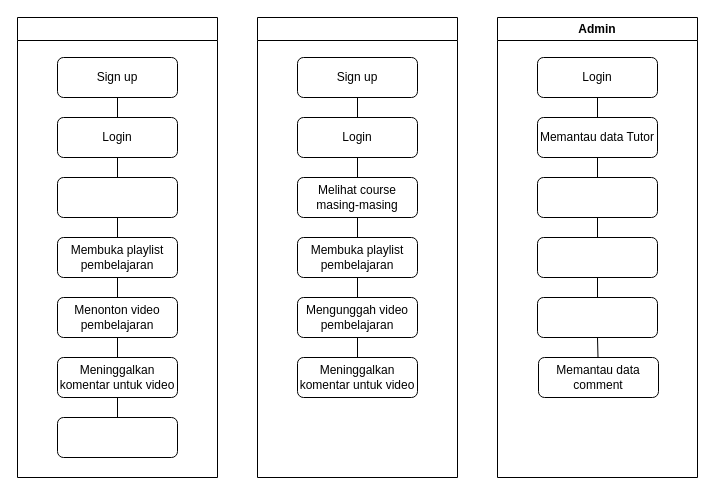
Some shapes in this 715 by 495 pixel diagram are drawn without their labels. Each missing label, with the box of its shape:
Memantau data students: (536, 176, 658, 218)
Membuka course pembelajaran: (56, 176, 178, 218)
Mengatur course: (536, 236, 658, 278)
Mengatur data video pembelajaran: (536, 296, 658, 338)
Menguji kompetensi dengan Quiz sederhana: (56, 416, 178, 458)
Students: (16, 16, 218, 478)
Tutor: (256, 16, 458, 478)
